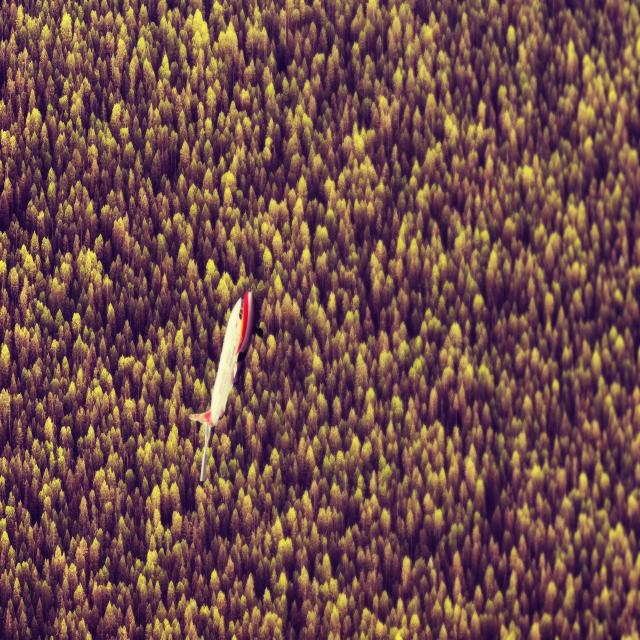airplane: (188, 288, 263, 482)
